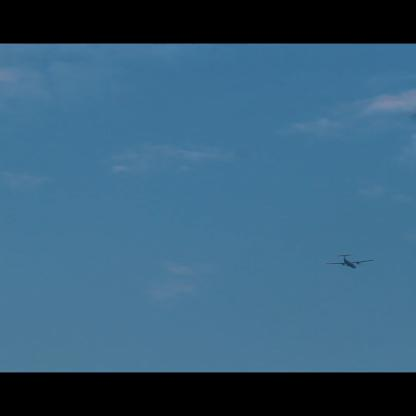plane: (325, 254, 373, 269)
